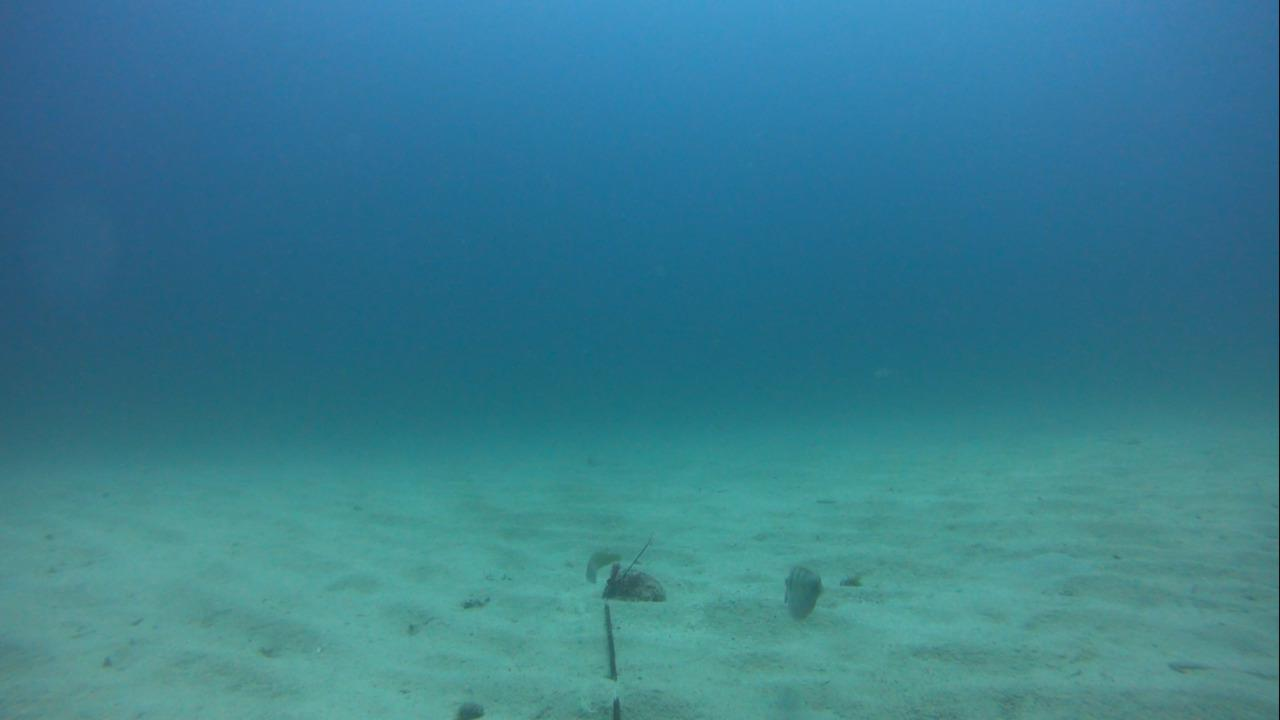raor: (778, 550, 829, 625)
